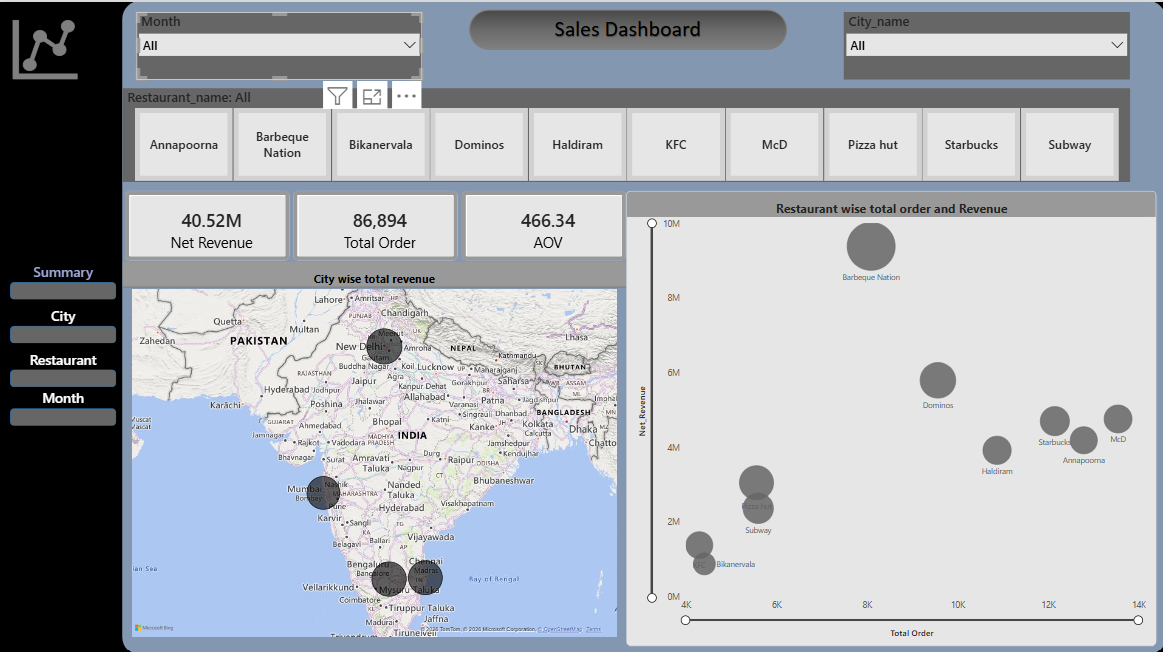

The page's visual inventory and layout, read from the dashboard file:
{"tool":"powerbi","page":{"name":"Summary","canvas":[1920,1080],"ordinal":0},"visuals":[{"type":"slicer","fields":{"Values":["order details.Date.Variation.Date Hierarchy.Month"]},"box":[224.4,16.5,471.4,111.1],"z":0},{"type":"slicer","fields":{"Values":["city details.City_name"]},"box":[1389.4,16.5,471.4,111.1],"z":1000},{"type":"slicer","fields":{"Values":["city details.Restaurant_name"]},"box":[201.7,142,1659,154.4],"z":2000},{"type":"cardVisual","title":"Net Revenue","fields":{"Data":["order details.KPI Net Revenue_2","order details.KPI Total Order","order details.KPI AOV"]},"box":[205.8,310.8,825.4,115.3],"z":3000},{"type":"shape","title":"Summary","box":[16.5,428.1,175,61.7],"z":4000},{"type":"shape","title":"City","box":[16.5,500.2,175,61.7],"z":5000},{"type":"shape","title":"Restaurant","box":[16.5,572.2,175,61.7],"z":6000},{"type":"shape","title":"Month","box":[16.5,636,175,61.7],"z":7000},{"type":"map","title":"City wise total revenue","fields":{"Category":["city details.City_name"],"Size":["order details.Net_Revenue"]},"box":[201.7,428.1,829.5,631.9],"z":8000},{"type":"scatterChart","title":"Restaurant wise total order and  Revenue","fields":{"Category":["city details.Restaurant_name"],"Size":["order details.KPI AOV"],"X":["order details.KPI Total Order"],"Y":["order details.Net_Revenue"]},"box":[1031.2,310.8,872.7,749.2],"z":9000}]}

Visuals, with their boxes on the page's 1920x1080 design canvas (x1, y1, x2, y2). These are canvas units, not pixel positions in the 1163x652 screenshot, which may show the page scaled, cropped or inside an application window:
slicer - order details.Date.Variation.Date Hierarchy.Month: pyautogui.locateOnScreen(224, 16, 696, 128)
slicer - city details.City_name: pyautogui.locateOnScreen(1389, 16, 1861, 128)
slicer - city details.Restaurant_name: pyautogui.locateOnScreen(202, 142, 1861, 296)
"Net Revenue" cardVisual: pyautogui.locateOnScreen(206, 311, 1031, 426)
"Summary" shape: pyautogui.locateOnScreen(16, 428, 192, 490)
"City" shape: pyautogui.locateOnScreen(16, 500, 192, 562)
"Restaurant" shape: pyautogui.locateOnScreen(16, 572, 192, 634)
"Month" shape: pyautogui.locateOnScreen(16, 636, 192, 698)
"City wise total revenue" map: pyautogui.locateOnScreen(202, 428, 1031, 1060)
"Restaurant wise total order and  Revenue" scatterChart: pyautogui.locateOnScreen(1031, 311, 1904, 1060)
